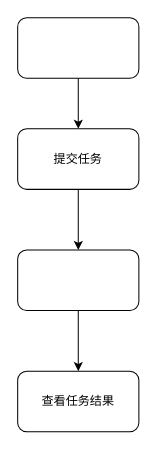
The diagram is 157 pixels wide and 449 high, and some of its shapes have lost their labels. Here are the shapes that lost their labels. From the top down, the centre of each, then its label:
At point (78, 47): "准备任务".
At point (78, 280): "查看任务状态".
